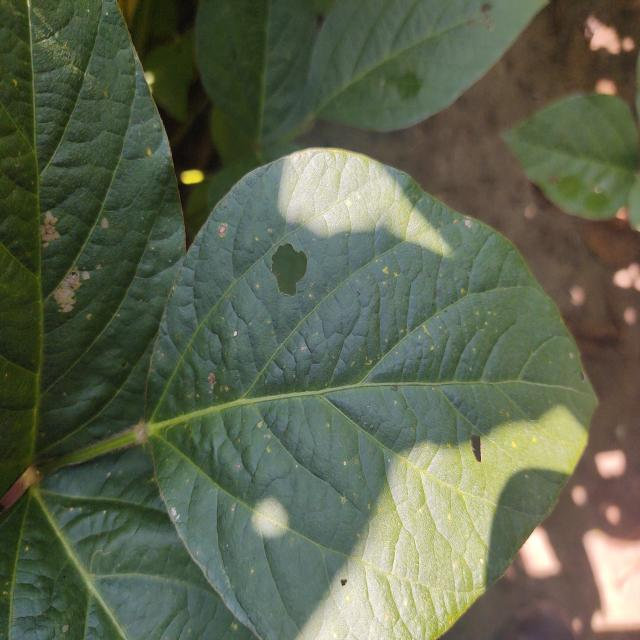Soybean: (99, 147, 598, 640)
downey_mildew: (151, 446, 283, 637), (401, 436, 506, 626), (256, 227, 369, 394), (26, 1, 107, 195), (414, 374, 591, 458), (166, 395, 287, 516), (0, 485, 90, 638), (251, 505, 335, 635), (39, 150, 122, 280), (255, 4, 322, 157), (327, 0, 422, 99), (84, 572, 224, 639), (409, 293, 504, 391), (39, 452, 160, 522), (0, 4, 42, 199), (316, 60, 428, 132), (37, 367, 128, 453), (226, 266, 295, 375), (0, 230, 44, 387), (147, 434, 207, 541), (509, 334, 595, 406), (330, 385, 423, 451), (434, 216, 498, 309), (41, 211, 96, 314), (0, 373, 42, 503), (356, 489, 407, 590), (125, 206, 182, 294), (568, 259, 635, 332), (183, 472, 225, 585), (0, 179, 43, 281), (32, 195, 75, 275), (30, 0, 90, 52), (181, 362, 230, 423), (377, 256, 416, 331), (330, 438, 382, 485), (209, 209, 261, 252), (208, 322, 233, 369), (40, 210, 61, 247), (478, 3, 495, 31)
